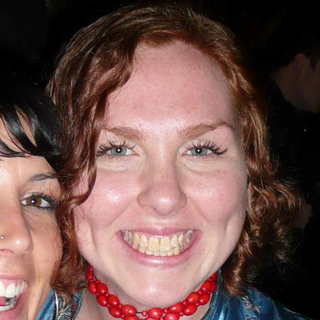eye: (178, 140, 226, 163), (99, 139, 141, 164), (16, 191, 56, 216)
